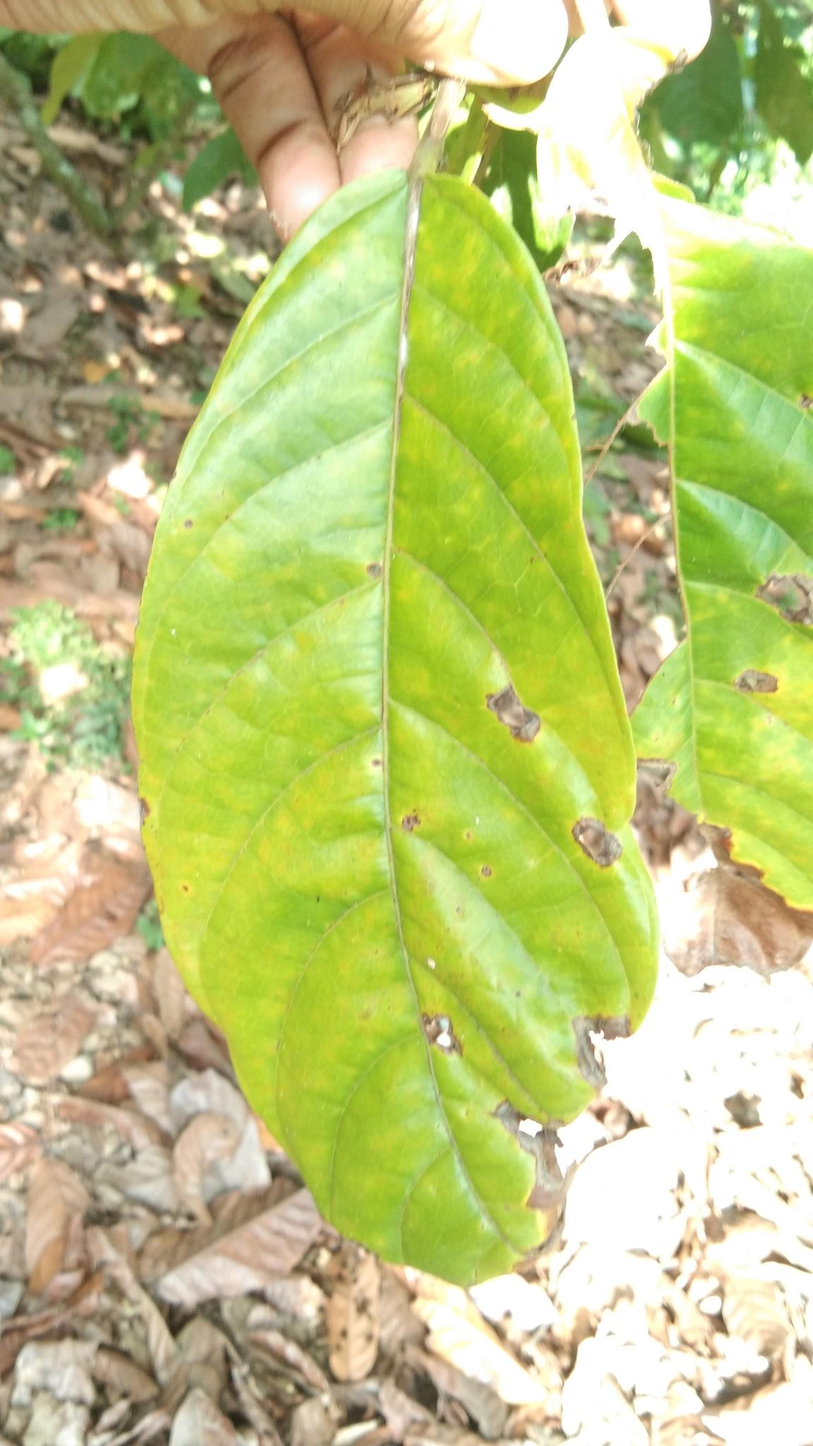Fosforo: (133, 151, 671, 1307), (633, 201, 812, 910)
